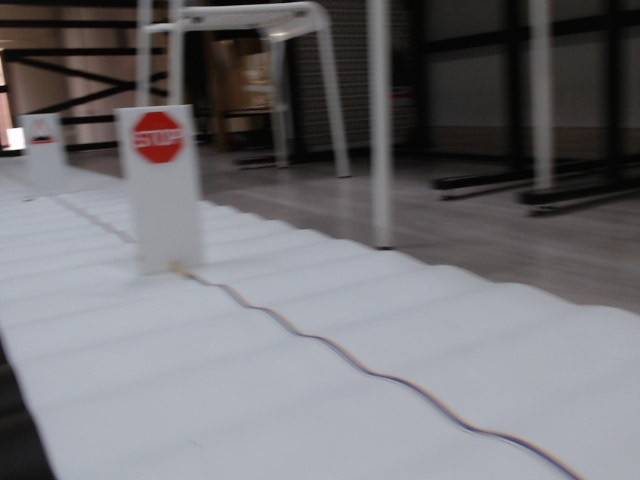Nerov: (29, 119, 56, 145)
Stop: (132, 112, 184, 163)
